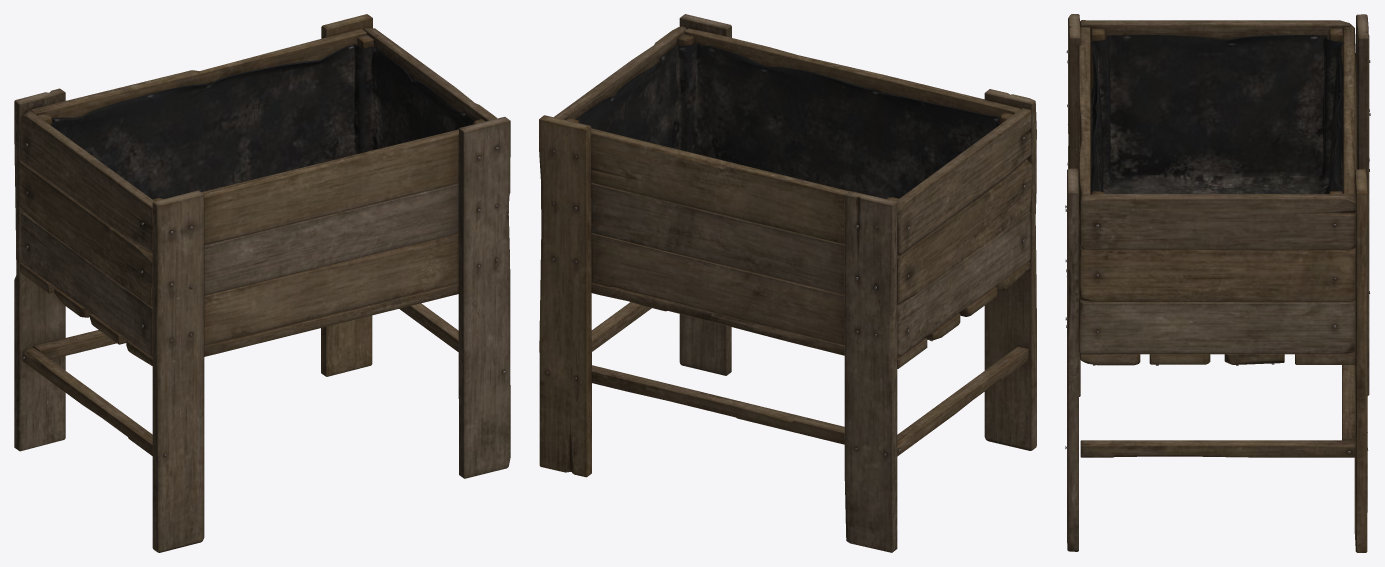
Rendered from planter_box_03.glb.
3 renders of one model, left to right at view 1: azimuth 30°, elevation 25°; view 2: azimuth 150°, elevation 25°; view 3: azimuth 270°, elevation 25°, orthographic. The views are drawn at different scales.
Visible parts, largest first — view 1: planter_box_03; view 2: planter_box_03; view 3: planter_box_03.
Boxes of the visible parts, x1,y1,x2,y2 form: planter_box_03: (14, 14, 510, 552); planter_box_03: (539, 14, 1036, 552); planter_box_03: (1065, 14, 1370, 552).
Bounding box in the file's own units: 0.9143 × 0.8551 × 0.6555.
Materials: 1 (1 with a texture image).
